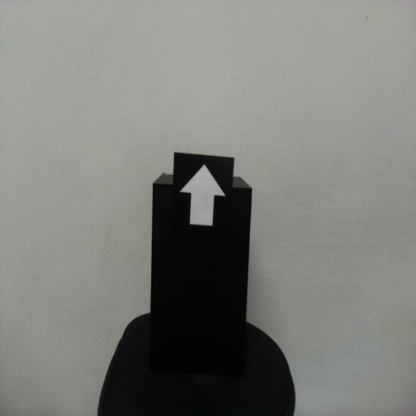id_1: (176, 158, 235, 245)
